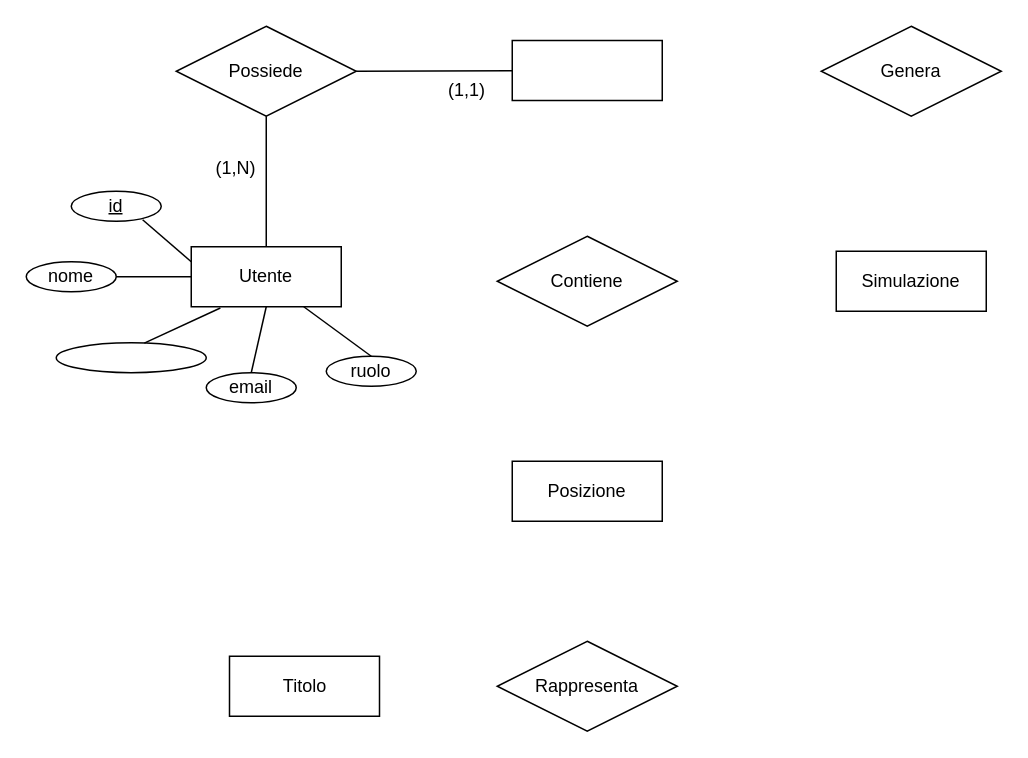
Image size: 1028x758. Some labels were removed from this diagram. The shapes that lost their labels are listed below. From the top down, each one's centre as x and y in pixels, then its label:
[586,69]: Portafoglio
[130,357]: password_hash
